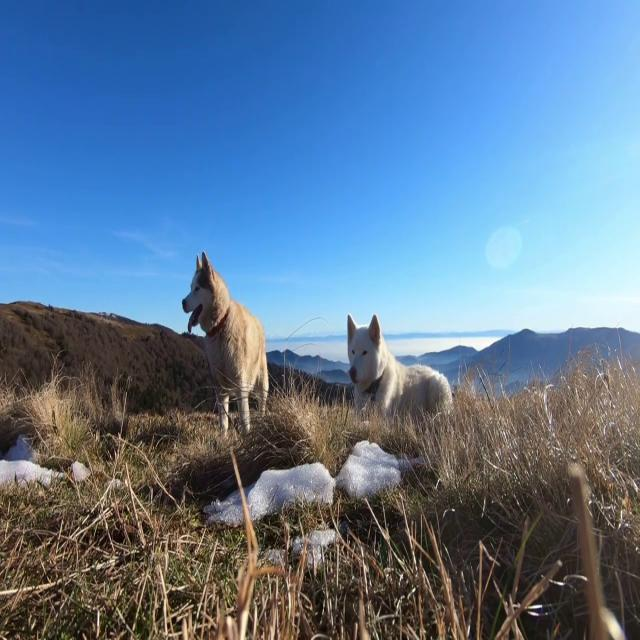Dog: (182, 252, 269, 435), (347, 312, 453, 431)
